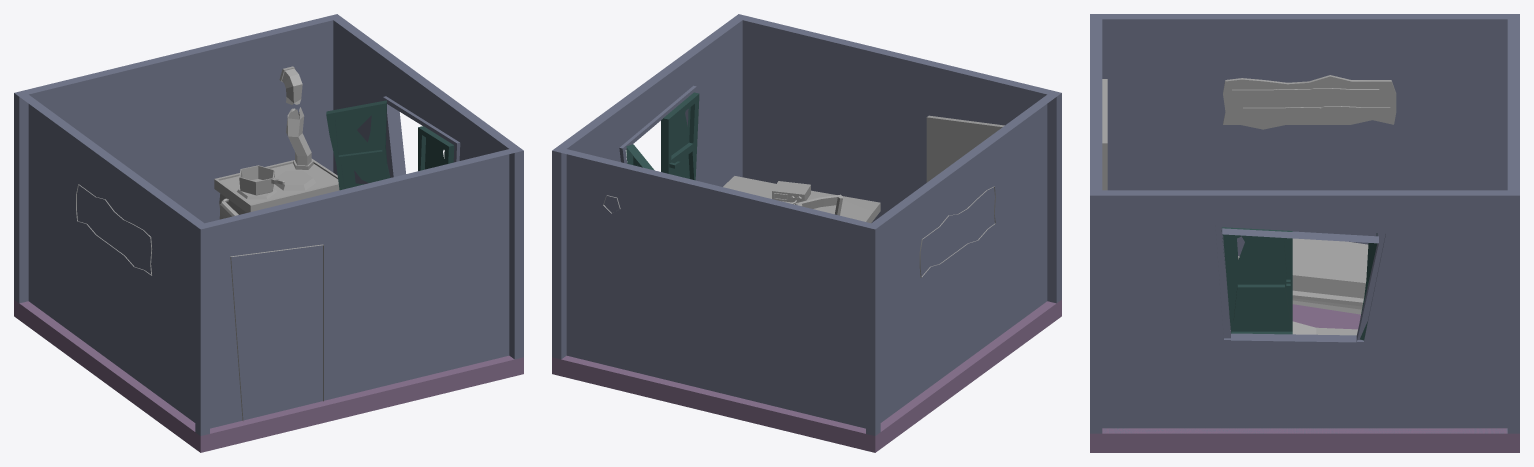
Rendered from Foret_cabane_int.fbx.
3 views of the same model, side by side, from view 1: azimuth 30°, elevation 25°; view 2: azimuth 150°, elevation 25°; view 3: azimuth 270°, elevation 25° (orthographic). The views are drawn at different scales.
Visible parts, largest first — view 1: mur_face, mur_L, mur_dos, Mur_R, sol10, Gaziniere1, Casserole, porte_R7; view 2: mur_dos, mur_L, mur_face, Mur_R, sol10, porte_R7, bureau2, Radio2; view 3: Mur_R, mur_L, sol10, fusils2, mur_dos, mur_face, Lit_cabane3, porte_R7, Planche_cassee.
Boxes of the visible parts, x1,y1,x2,y2 form: mur_face: (195,148,523,435); mur_L: (14,90,209,435); mur_dos: (14,16,340,303); Mur_R: (326,14,523,359); sol10: (14,300,523,452); Gaziniere1: (214,66,339,219); Casserole: (239,165,284,195); porte_R7: (230,244,323,420); mur_dos: (552,147,880,435); mur_L: (866,90,1061,435); mur_face: (734,14,1061,303); Mur_R: (552,14,747,359); sol10: (552,300,1061,452); porte_R7: (926,115,1004,182); bureau2: (723,176,880,222); Radio2: (772,181,810,204); Mur_R: (1090,190,1518,433); mur_L: (1090,14,1519,256); sol10: (1090,304,1519,452); fusils2: (1223,75,1396,129); mur_dos: (1507,14,1519,433); mur_face: (1090,14,1102,433); Lit_cabane3: (1292,238,1368,314); porte_R7: (1102,79,1107,190); Planche_cassee: (1292,321,1357,335).
Size of the model in its own units: 800 by 528 by 800.
